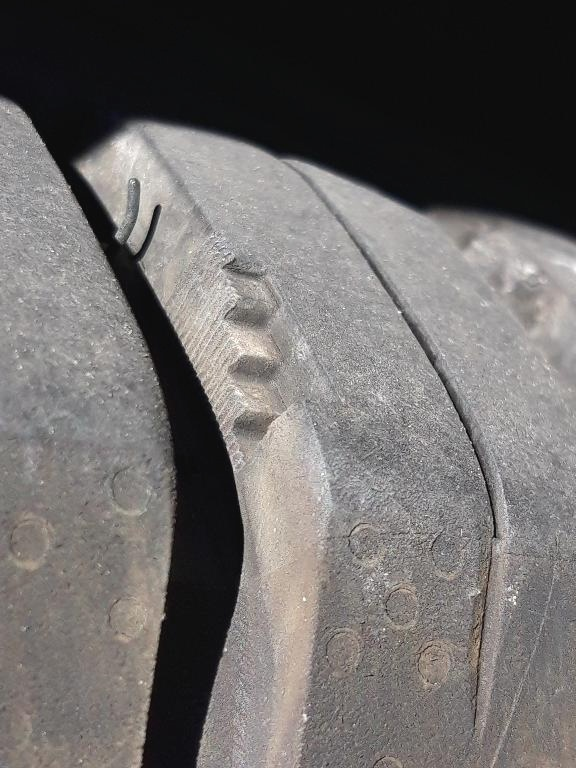temoin:80: (156, 227, 349, 488)
